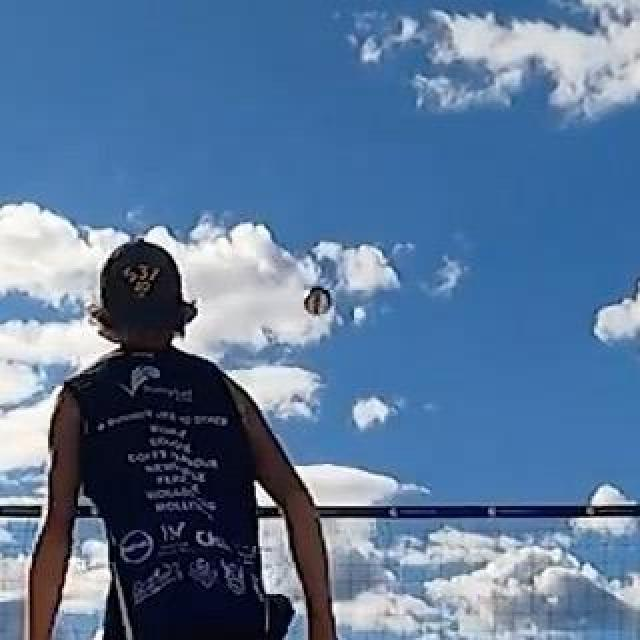volleyball: (304, 285, 332, 313)
